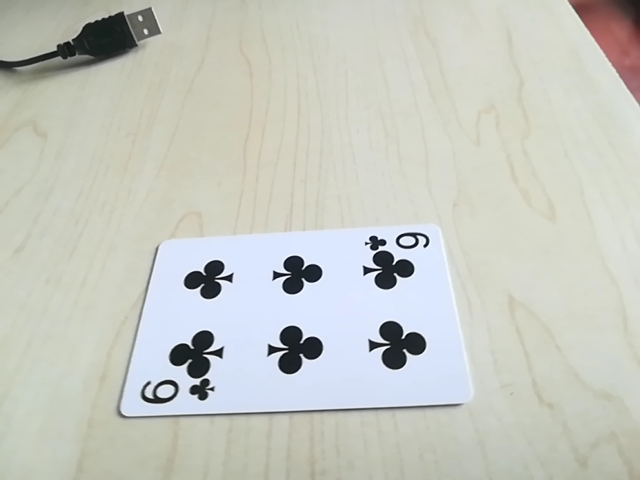mh 6: (133, 375, 217, 412), (365, 227, 437, 256)
